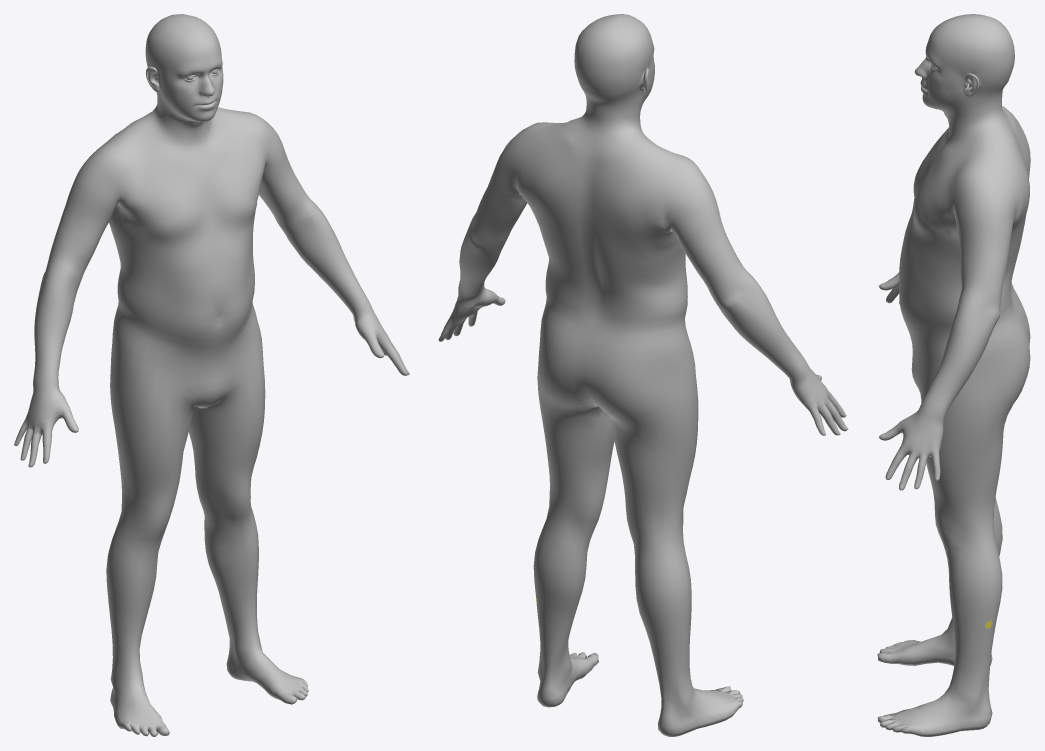
The model's file is 1135025-crossleg-red+yellow.gltf.
3 renders of one model, left to right at view 1: azimuth 30°, elevation 25°; view 2: azimuth 150°, elevation 25°; view 3: azimuth 270°, elevation 25°, orthographic. The views are drawn at different scales.
Parts seen in each view (by area): view 1: Male 68in 180lbs-A-pose; view 2: Male 68in 180lbs-A-pose; view 3: Male 68in 180lbs-A-pose.
Part boxes in pixels (x1,y1,x2,y2): Male 68in 180lbs-A-pose: (14, 14, 409, 736); Male 68in 180lbs-A-pose: (438, 14, 848, 736); Male 68in 180lbs-A-pose: (877, 14, 1030, 736).
Bounding box in the file's own units: 3.06 × 5.17 × 1.05.
1 material, 1 textured.
